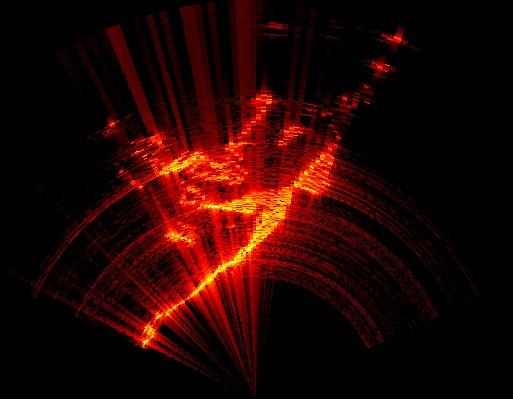shipwreck: (144, 135, 343, 343), (125, 96, 271, 189), (167, 229, 192, 250)
